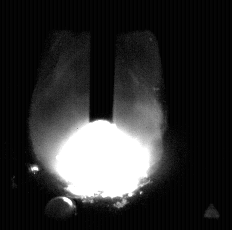arame: (90, 0, 115, 123)
poca: (29, 0, 166, 230)
